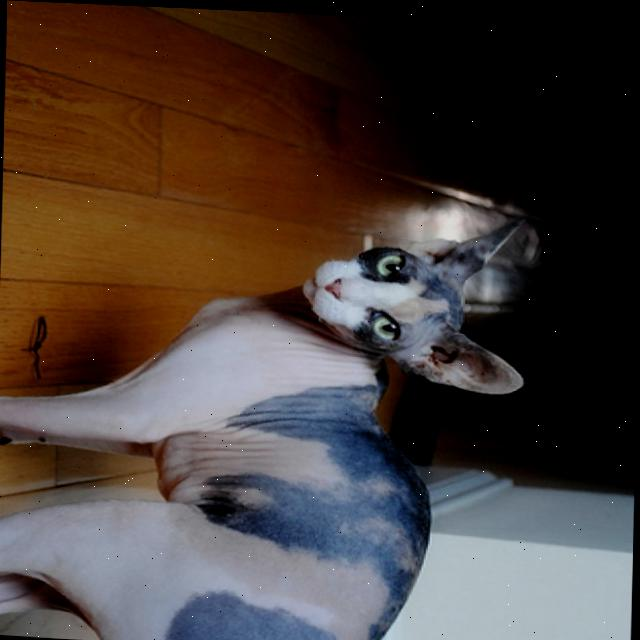Sphynx: (0, 180, 534, 640)
